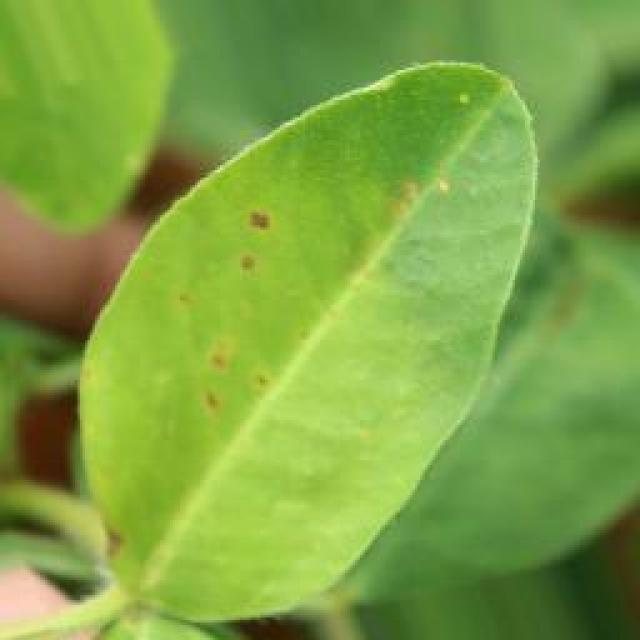Sigatoka: (142, 325, 292, 447), (220, 191, 286, 317), (377, 168, 472, 239), (156, 276, 239, 356), (96, 506, 158, 600)
